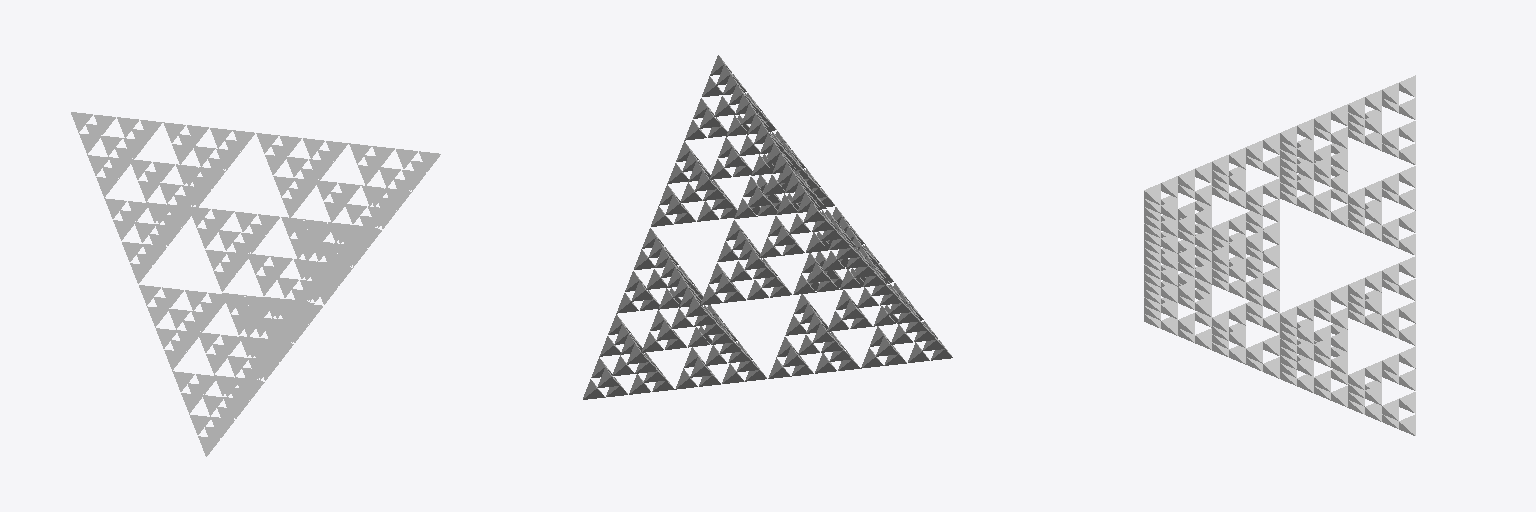
The model's file is spongetri4IV.obj.
The picture shows the model from 3 angles: view 1: azimuth 30°, elevation 25°; view 2: azimuth 150°, elevation 25°; view 3: azimuth 270°, elevation 25°; orthographic projection.
Bounding box in the file's own units: 9 × 9 × 9.